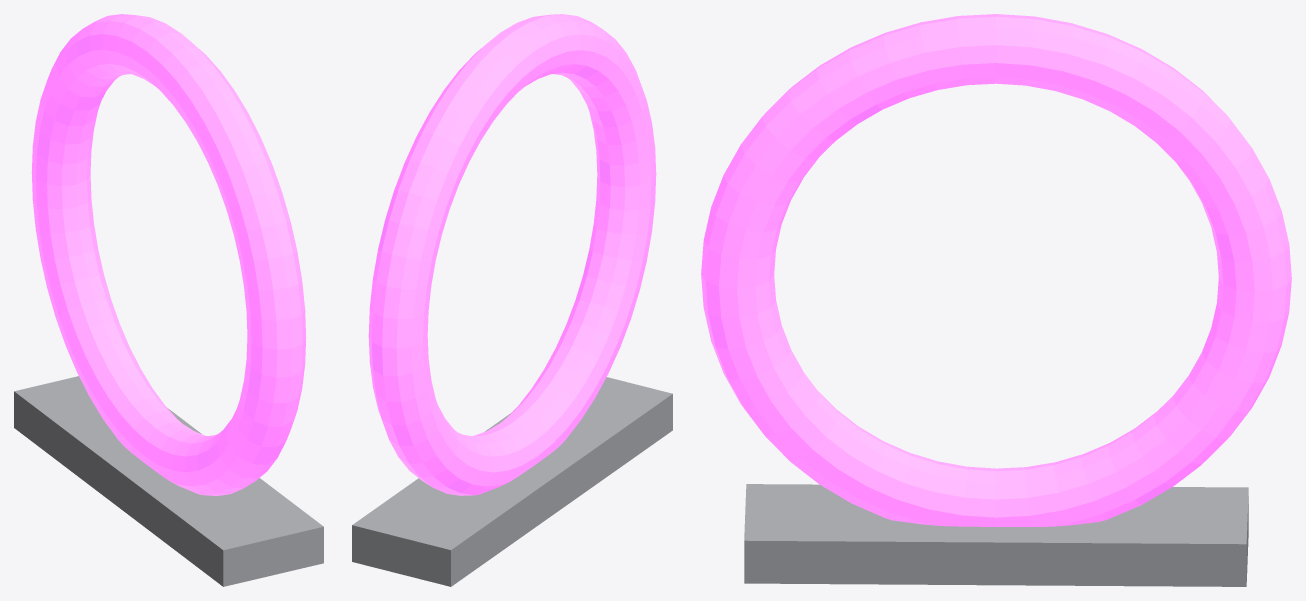
Rendered from portal_final_l3_lev3.glb.
The picture shows the model from 3 angles, left to right: view 1: azimuth 30°, elevation 25°; view 2: azimuth 150°, elevation 25°; view 3: azimuth 270°, elevation 25°; orthographic projection. The views are drawn at different scales.
Parts seen in each view (by area): view 1: portal_final_l3_lev3; view 2: portal_final_l3_lev3; view 3: portal_final_l3_lev3.
Boxes of the visible parts, x1,y1,x2,y2 form: portal_final_l3_lev3: (14,14,323,586); portal_final_l3_lev3: (352,14,672,586); portal_final_l3_lev3: (701,14,1291,586).
Bounding box in the file's own units: 2.56 × 10.71 × 10.62.
